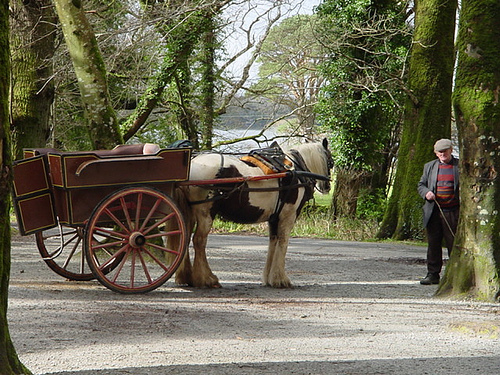horse: (162, 135, 334, 292)
